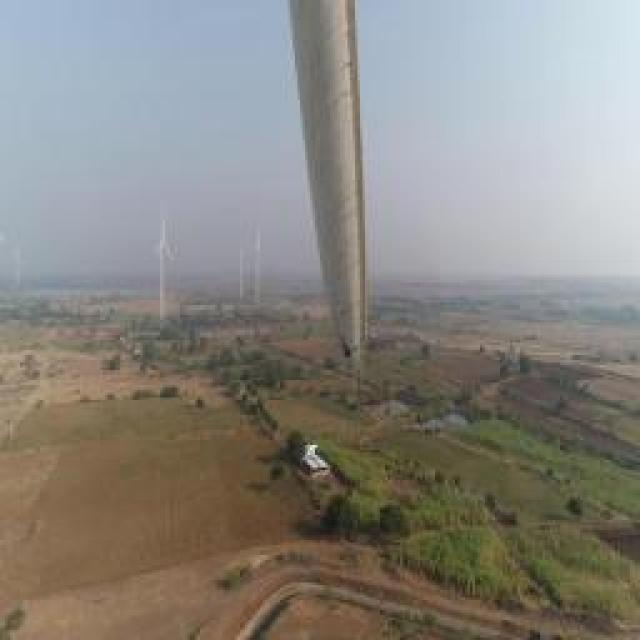Dirt: (287, 0, 367, 363)
Oil LEAKAGE: (343, 342, 355, 358)
